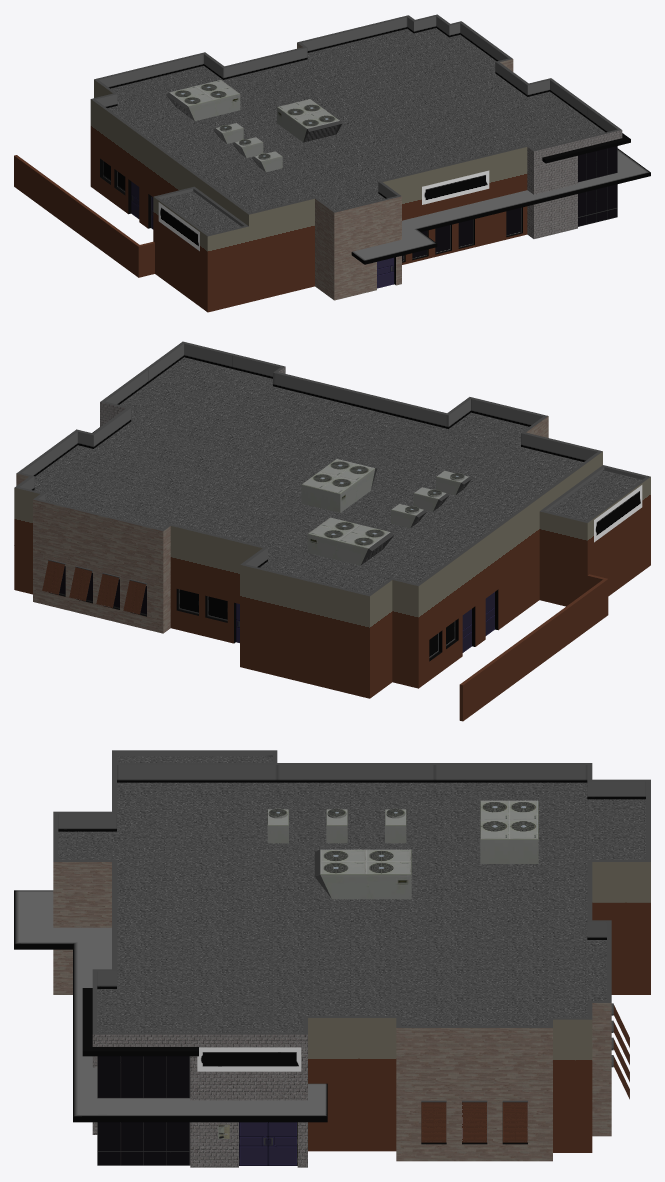
The picture shows the model from 3 angles, top to bottom: view 1: azimuth 30°, elevation 25°; view 2: azimuth 150°, elevation 25°; view 3: azimuth 270°, elevation 25°; orthographic projection. The views are drawn at different scales.
Visible parts, largest first — view 1: export SF; view 2: export SF; view 3: export SF.
Boxes of the visible parts, x1,y1,x2,y2 form: export SF: (14,14,650,312); export SF: (14,341,650,721); export SF: (14,750,650,1167).
Size of the model in its own units: 400 by 79.09 by 325.
Materials: 1 (1 with a texture image).
